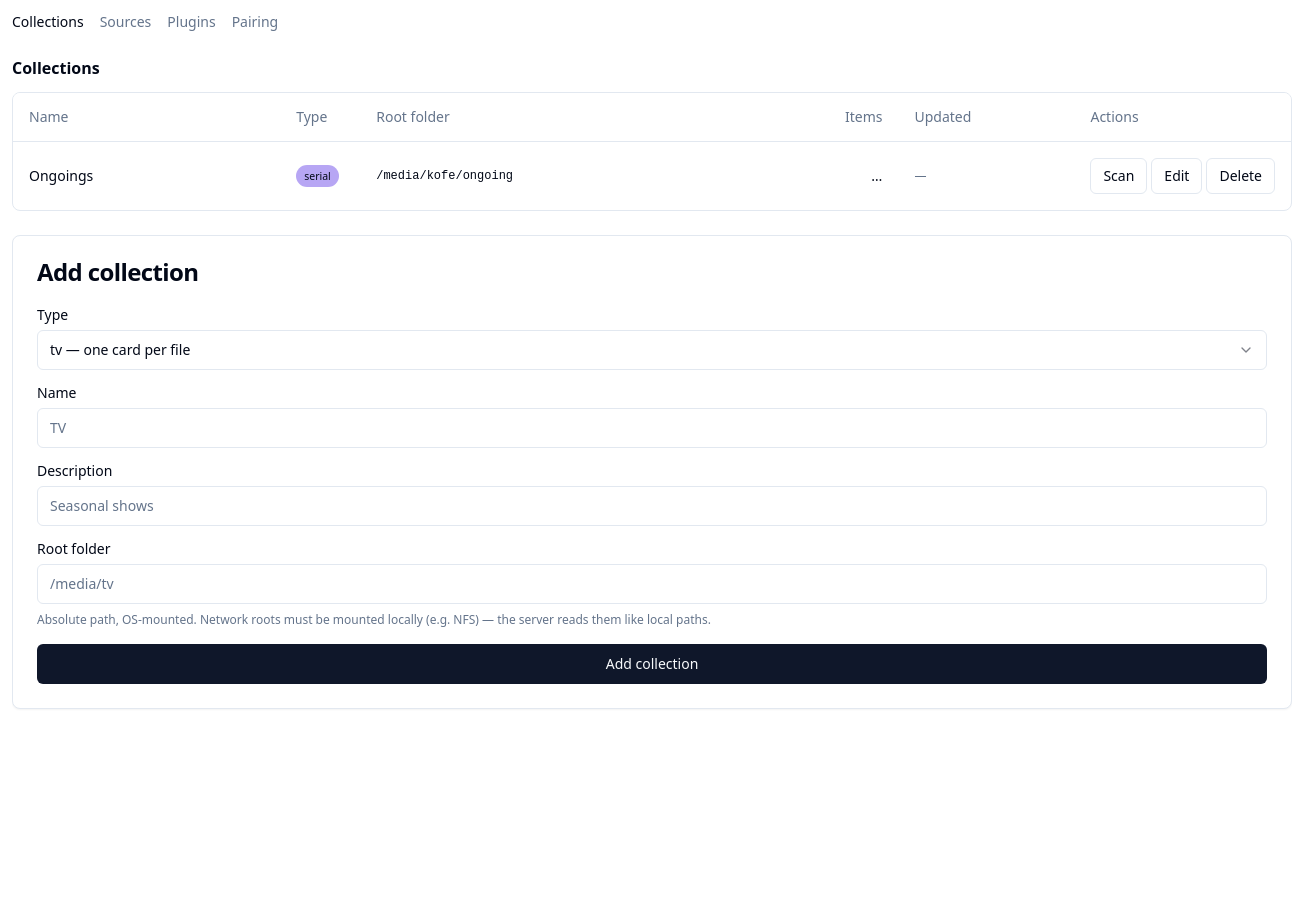
Test: Collections — admin panel (group 6) › delete is two-step per row: arm → Confirm delete removes the row (serial badge renders)
Expected: the text "/media/kofe/ongoing" is shown, top-left (360, 141), bottom-right (829, 210)
Expected: the text "serial" is shown, top-left (296, 164), bottom-right (339, 186)
// Delete only arms — no API call, Confirm delete + No appear.
Click the button "Delete". click: [1241, 176]
box: top-left (1206, 158), bottom-right (1275, 194)
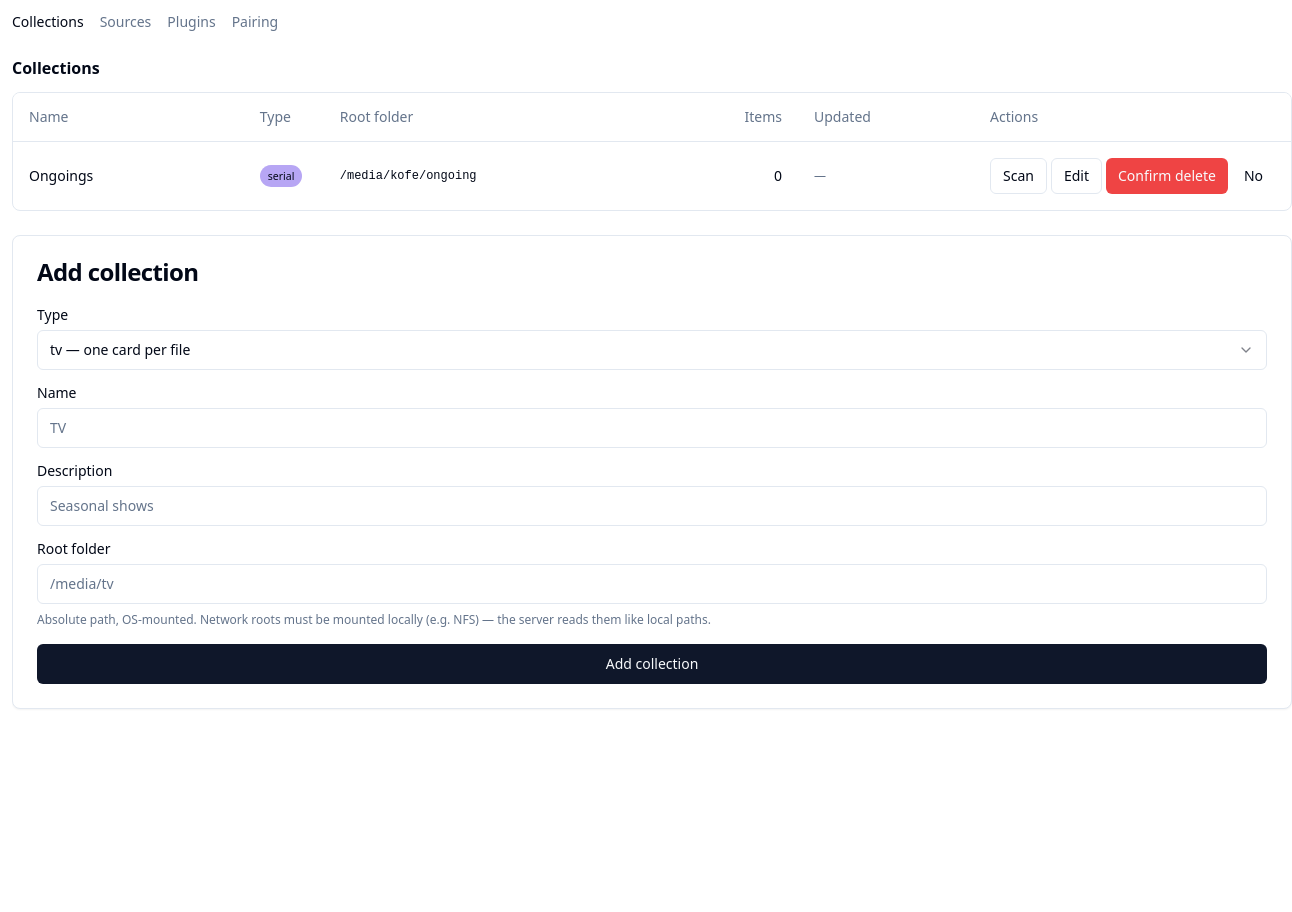
Now the button "Confirm delete" is shown, box top-left (1106, 158), bottom-right (1228, 194)
// No disarms back to the plain Delete button.
Click the button "No". click: [1253, 176]
box: top-left (1232, 158), bottom-right (1275, 194)
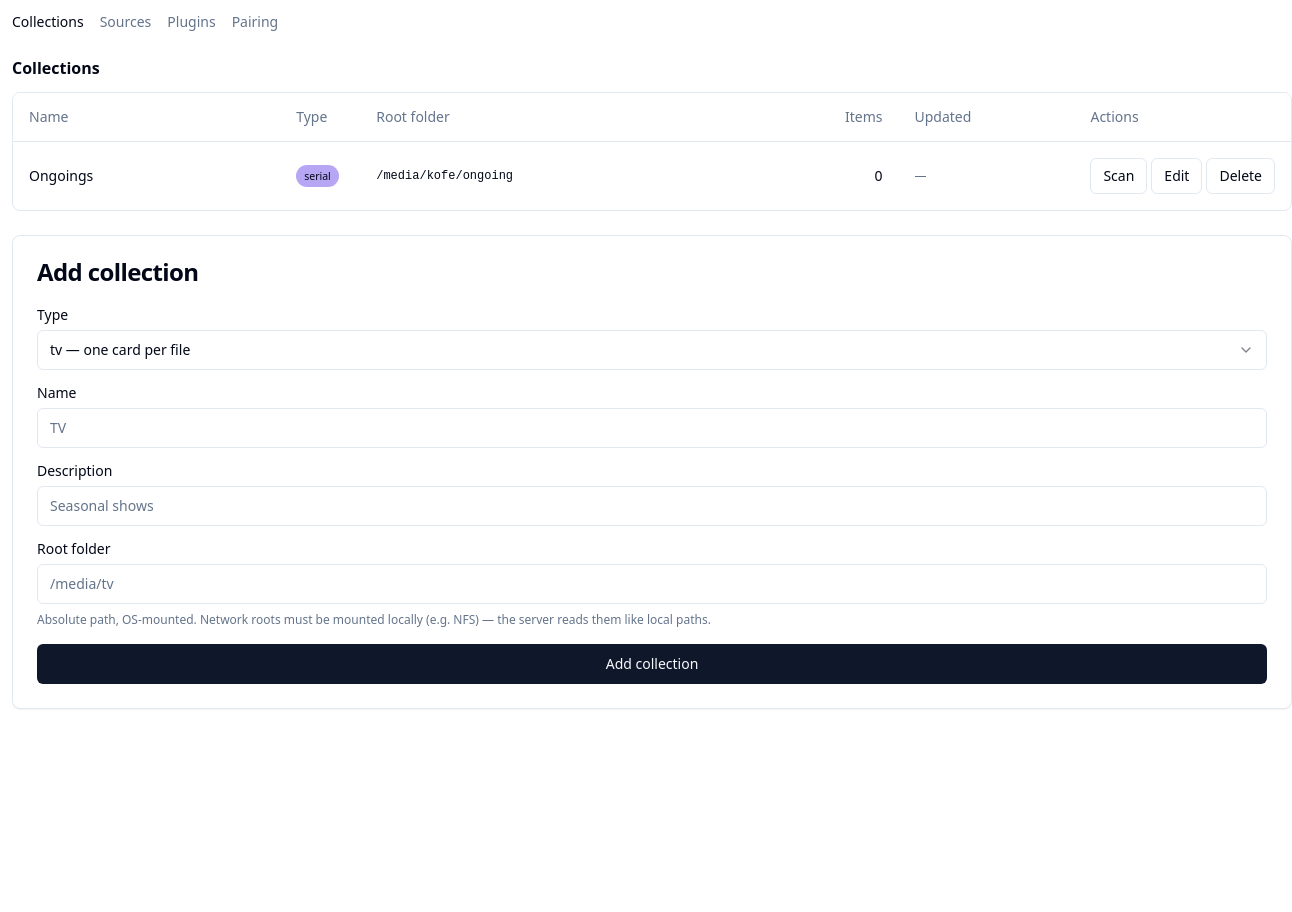
Now the button "Confirm delete" is gone
Click the button "Delete". click: [1241, 176]
box: top-left (1206, 158), bottom-right (1275, 194)
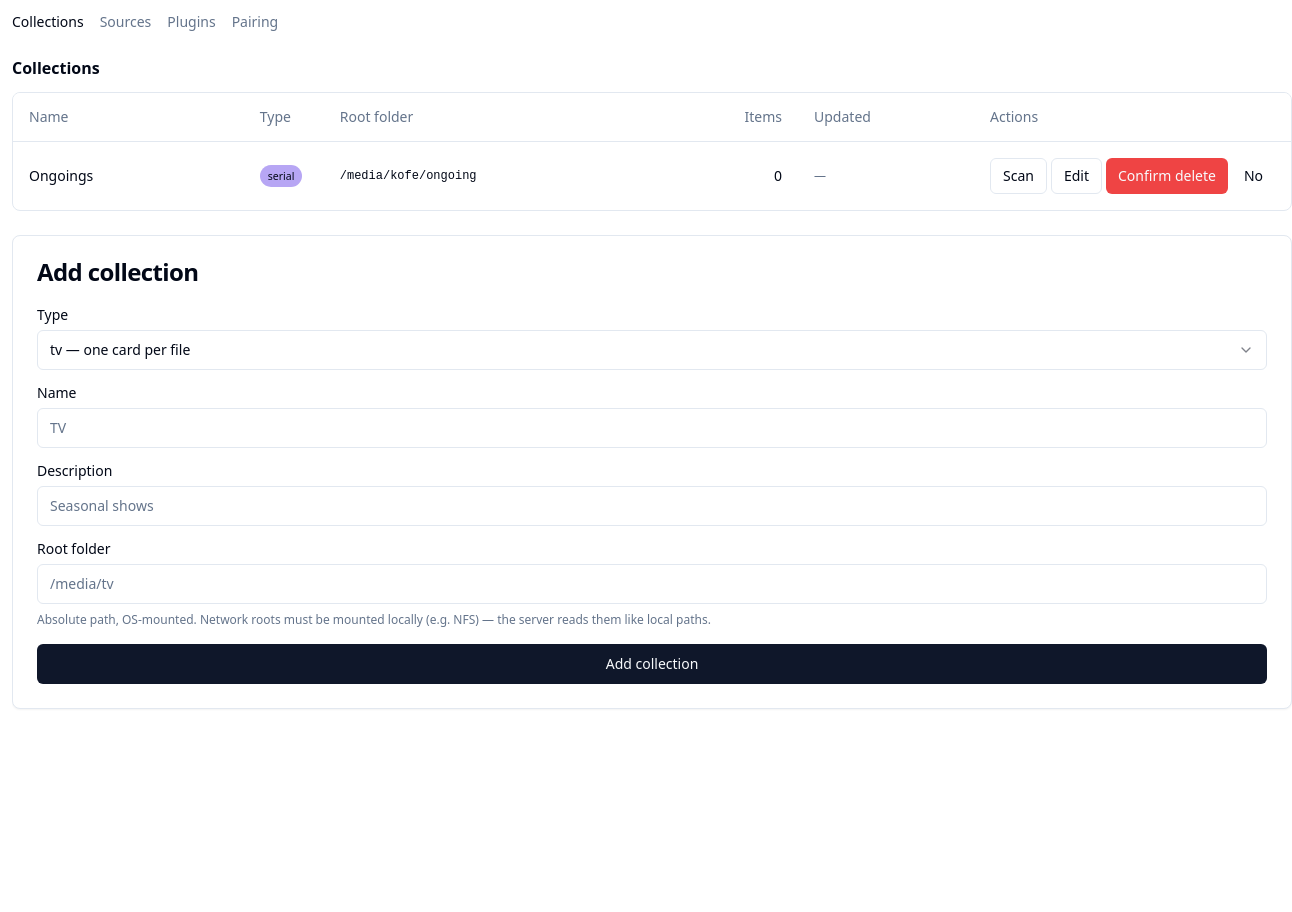
Click the button "Confirm delete". click: [1167, 176]
box: top-left (1106, 158), bottom-right (1228, 194)
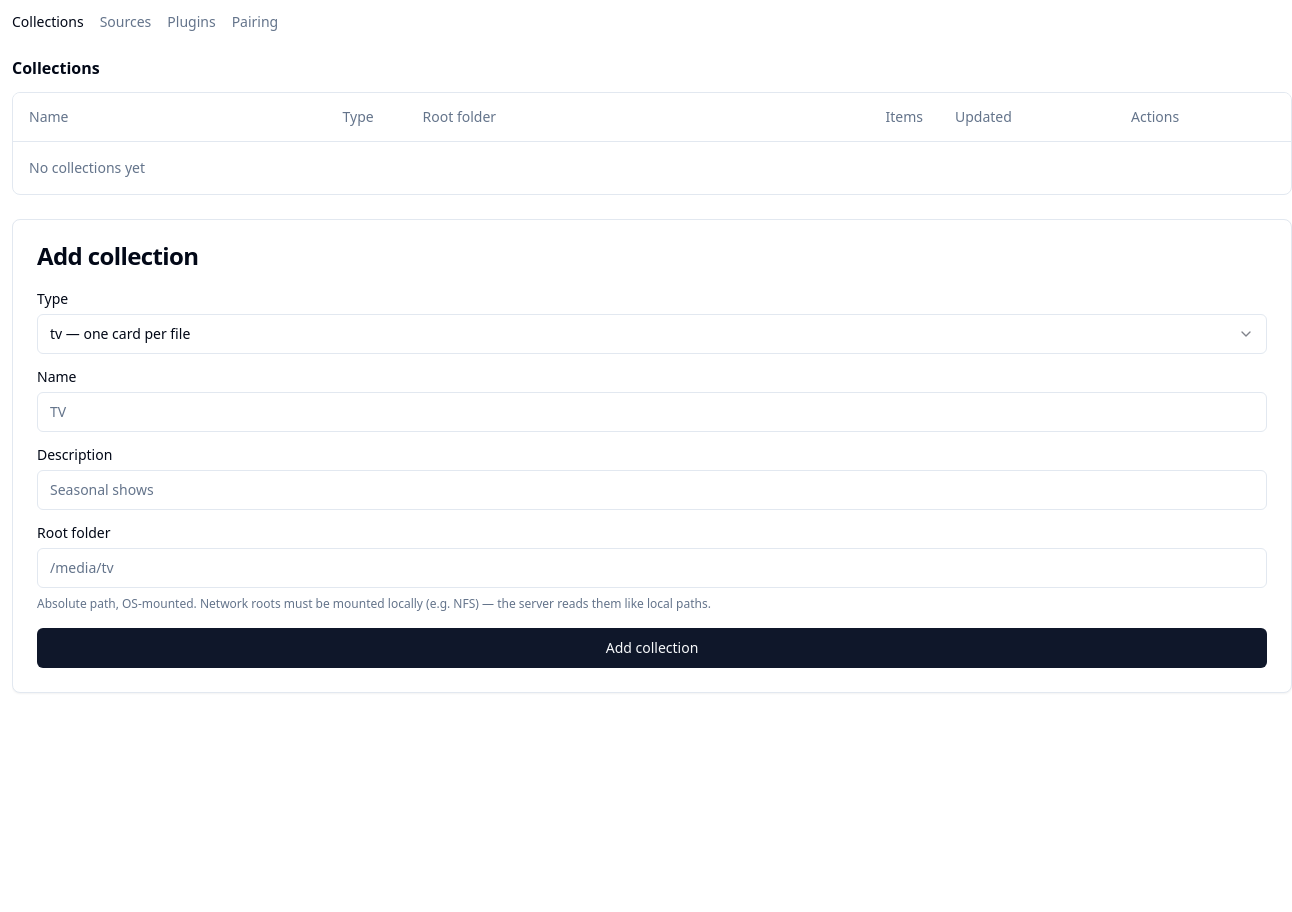
Now the text "No collections yet" is shown, box top-left (13, 141), bottom-right (1291, 194)
